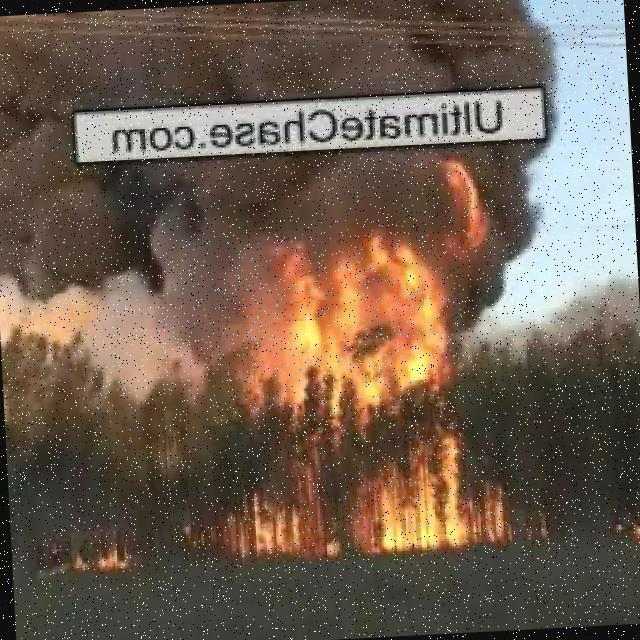Fire: (246, 155, 492, 401), (201, 425, 508, 564), (59, 529, 141, 575)
